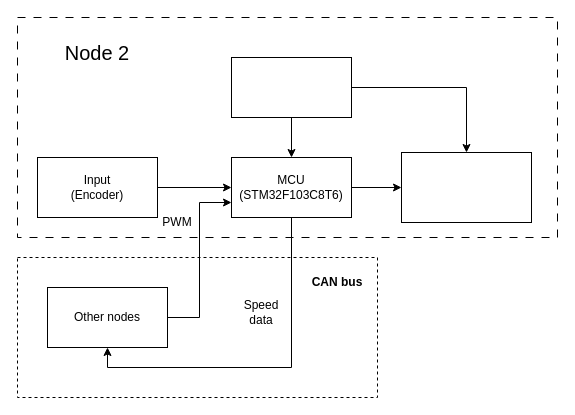
This 575x415 diagram has some shape labels left out. The box of each missing label's shape, as (x1, y1, x2, y2) in pixels:
Motor Driver: (400, 152, 532, 222)
Power: (230, 56, 352, 118)
